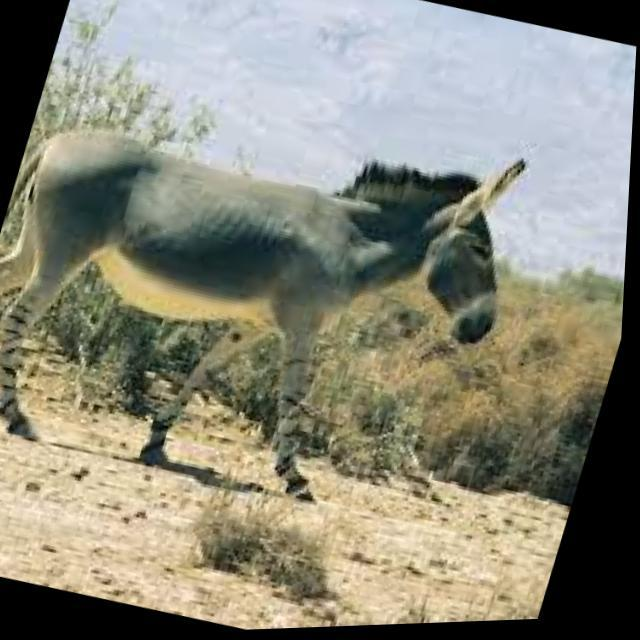Donkey: (21, 33, 562, 496)
